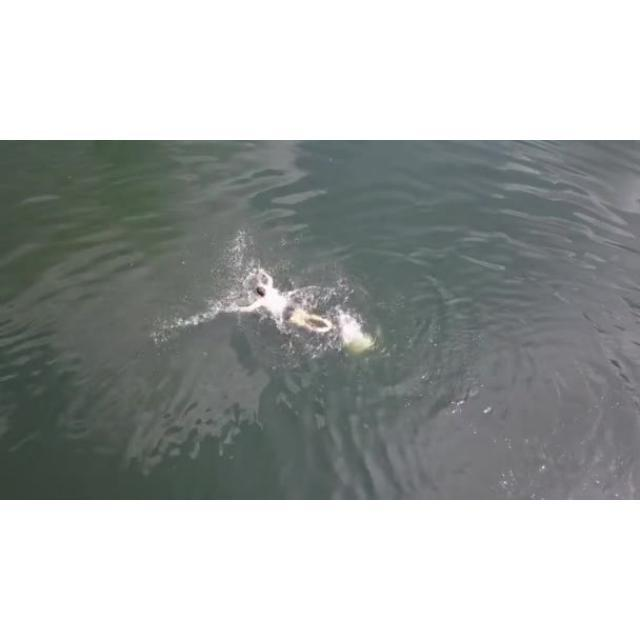human: (242, 268, 332, 334)
